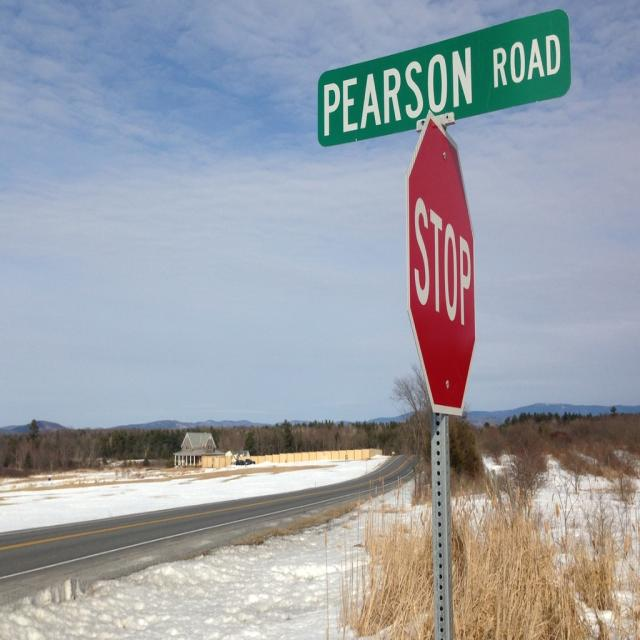Stop-sign: (404, 108, 477, 418)
